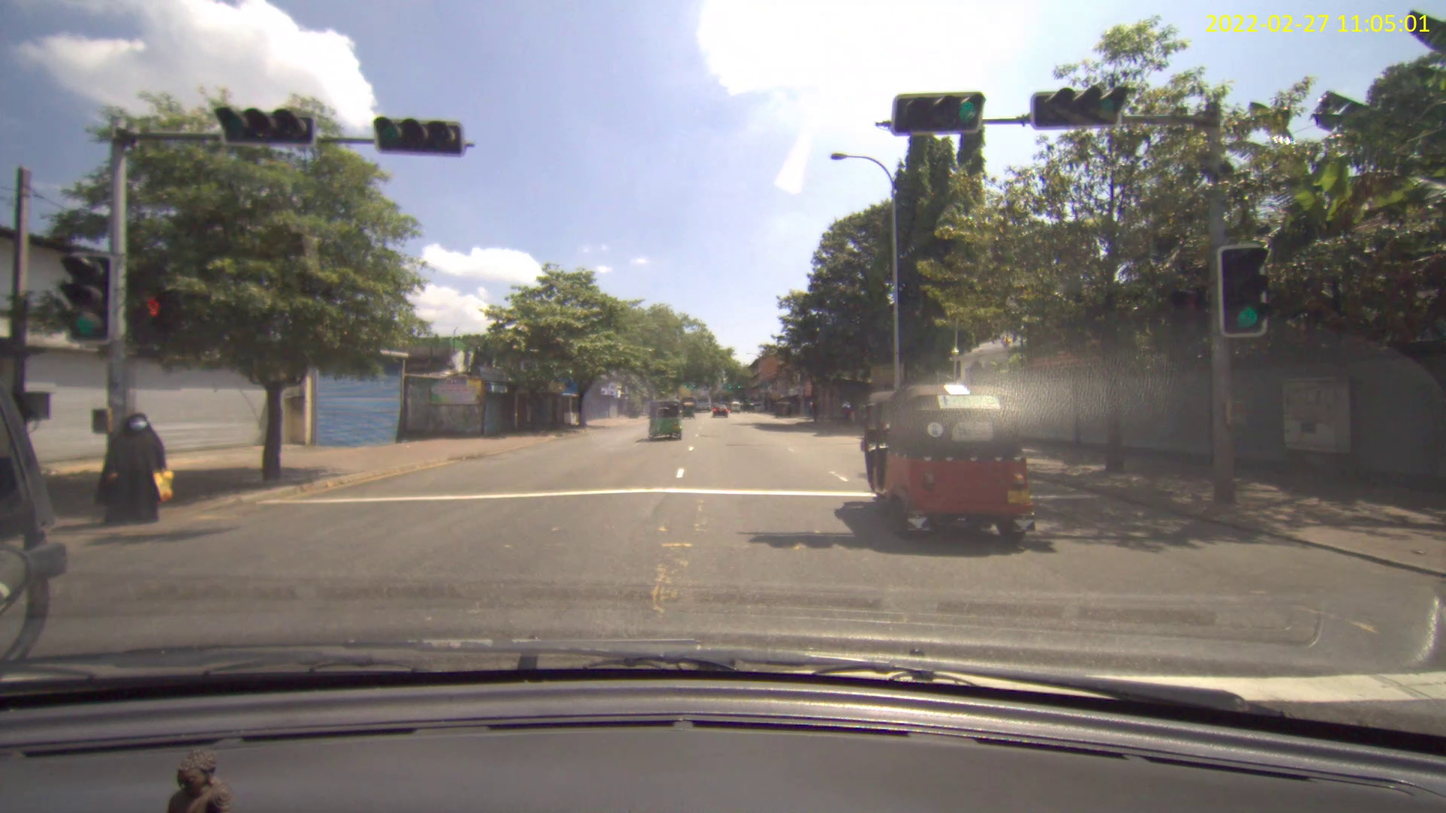Green: (1217, 243, 1268, 336), (65, 251, 111, 344), (214, 109, 315, 150), (890, 91, 984, 135), (1030, 87, 1124, 129), (374, 116, 465, 157)
